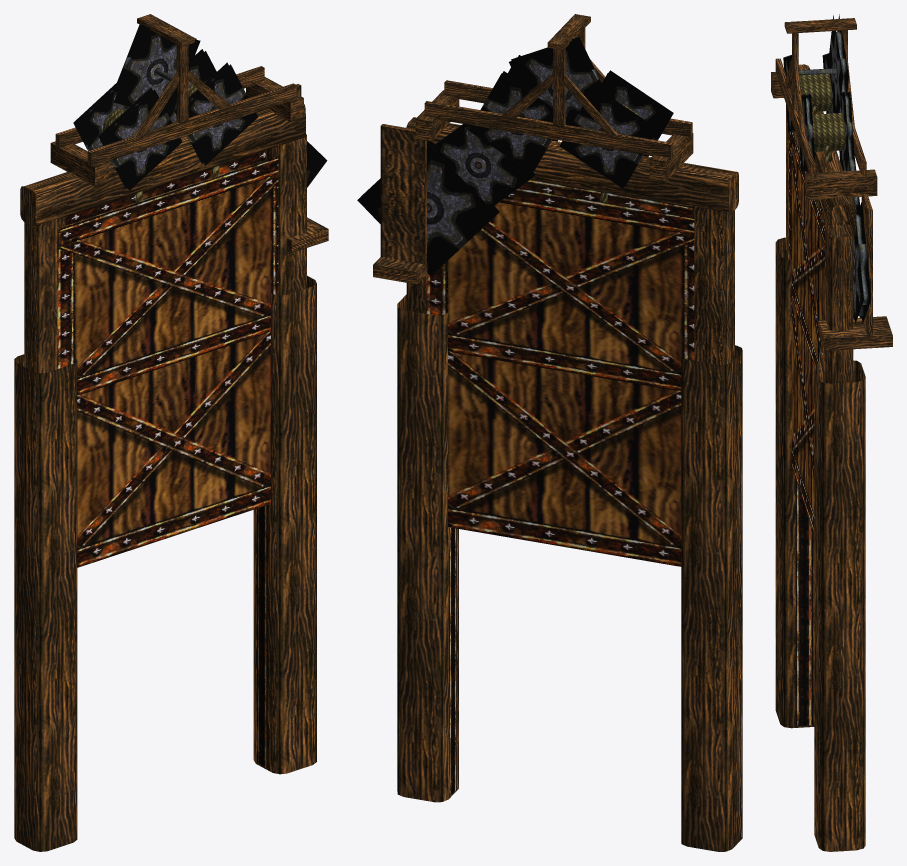
Rendered from CINE11_GANDALFANDBILBOREUNITED_SHOT03_GATEB.fbx.
3 views of the same model, side by side, from view 1: azimuth 30°, elevation 25°; view 2: azimuth 150°, elevation 25°; view 3: azimuth 270°, elevation 25° (orthographic). The views are drawn at different scales.
Parts seen in each view (by area): view 1: CINE11_GANDALFANDBILBOREUNITED_SHOT03_GATEB; view 2: CINE11_GANDALFANDBILBOREUNITED_SHOT03_GATEB; view 3: CINE11_GANDALFANDBILBOREUNITED_SHOT03_GATEB.
Part boxes in pixels (x1=…): CINE11_GANDALFANDBILBOREUNITED_SHOT03_GATEB: x1=14, y1=14, x2=328, y2=851; CINE11_GANDALFANDBILBOREUNITED_SHOT03_GATEB: x1=357, y1=14, x2=742, y2=851; CINE11_GANDALFANDBILBOREUNITED_SHOT03_GATEB: x1=771, y1=14, x2=892, y2=851.
Size of the model in its own units: 37833 by 82575 by 12059.
Materials: 7 (7 with a texture image).
